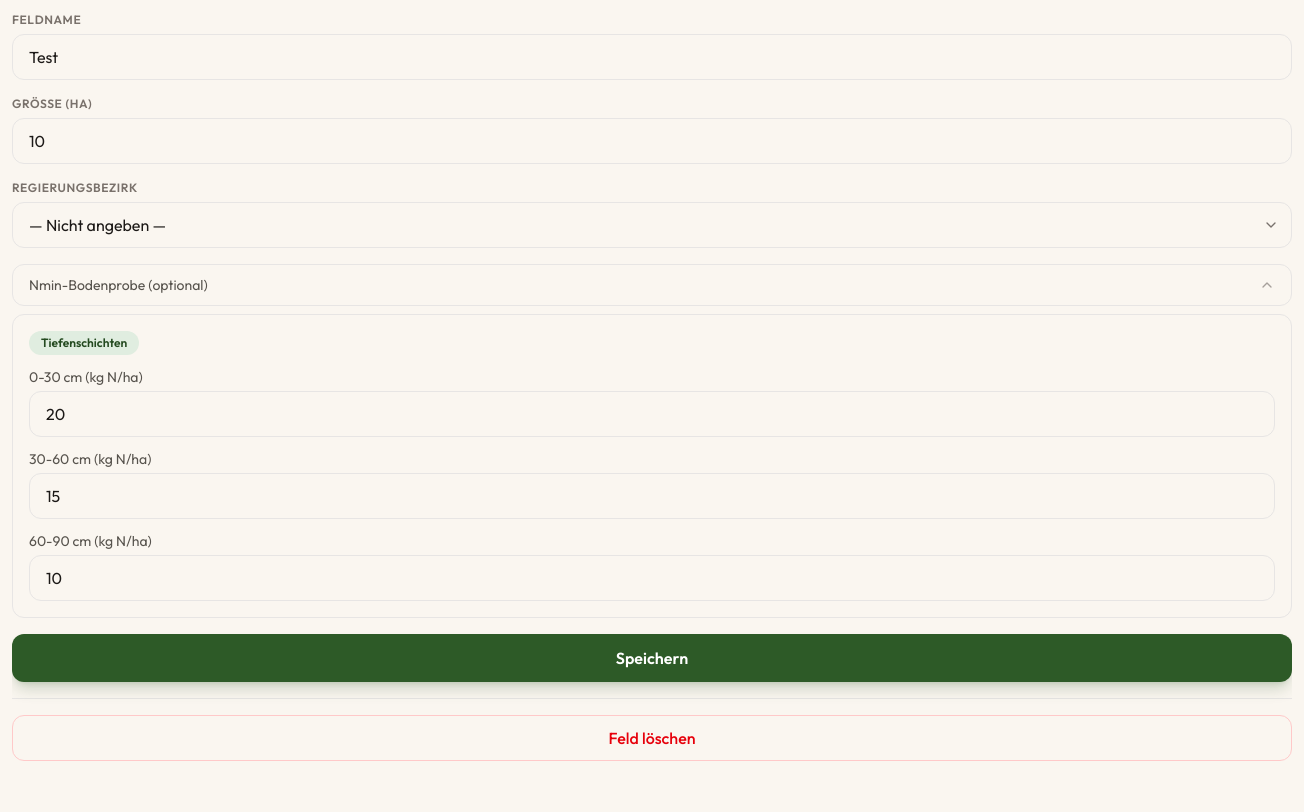
Test: FieldForm › shows sum of existing layers in Gesamtwert mode when editing
The width and height of the screenshot is (1304, 812).
Step 1. Click the button with test id "nmin-mode-toggle" → (84, 343), box [29, 331, 139, 355]
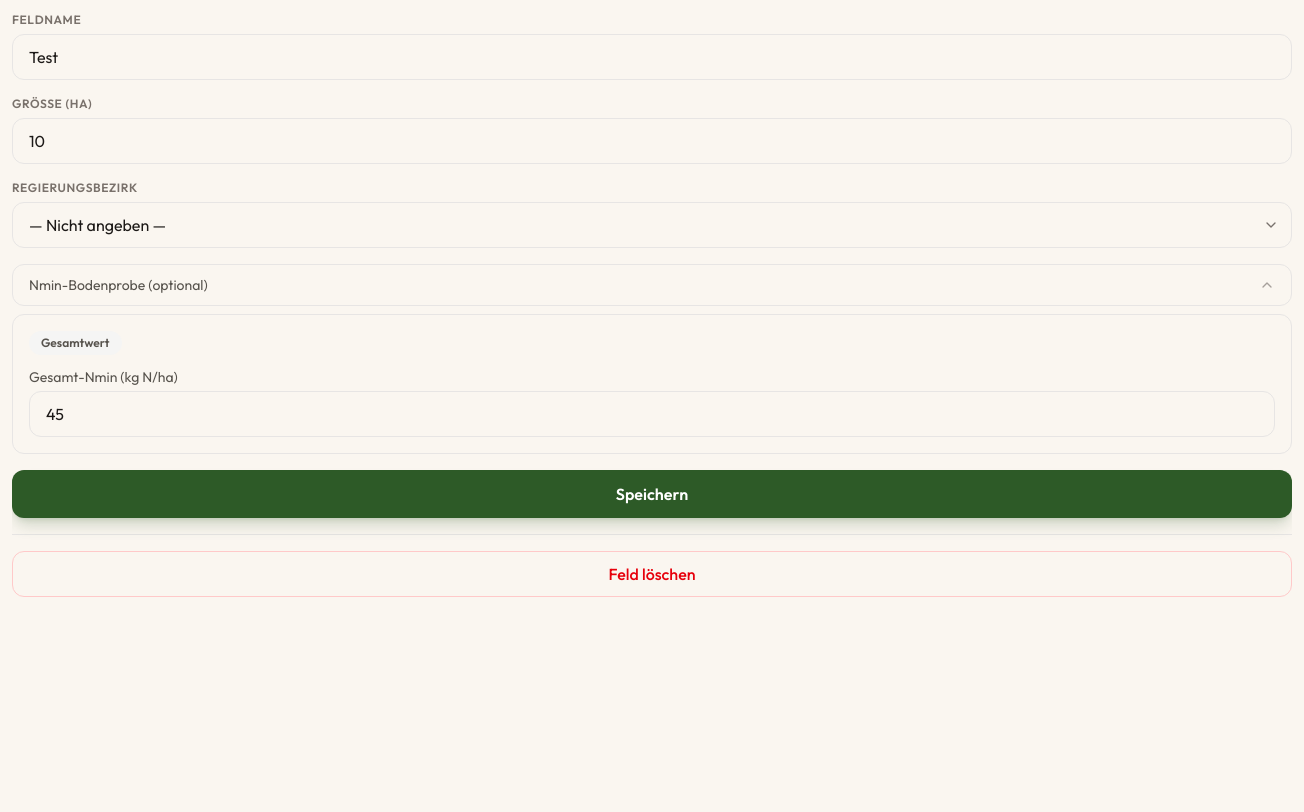
expect the number field with test id "nmin-gesamt-input" holds "45": met, box [29, 391, 1275, 437]
